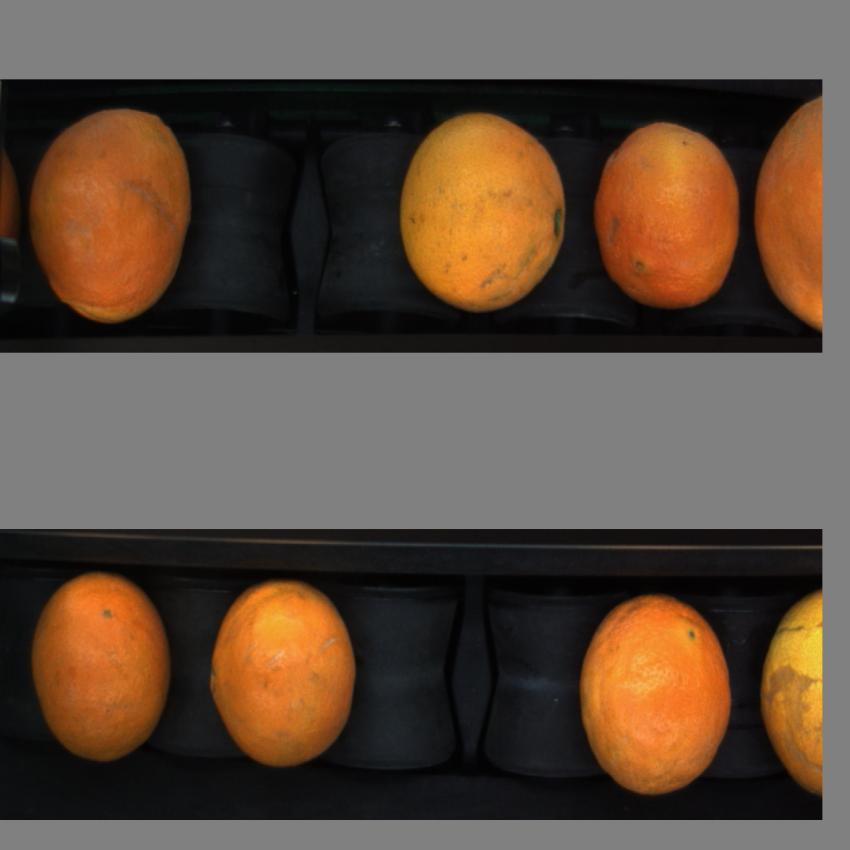Buen estado: (395, 108, 571, 316), (573, 588, 739, 799), (591, 111, 745, 317), (206, 567, 363, 762), (28, 565, 177, 766), (755, 583, 822, 791)
Mal estado: (26, 106, 200, 325), (751, 92, 823, 332)
